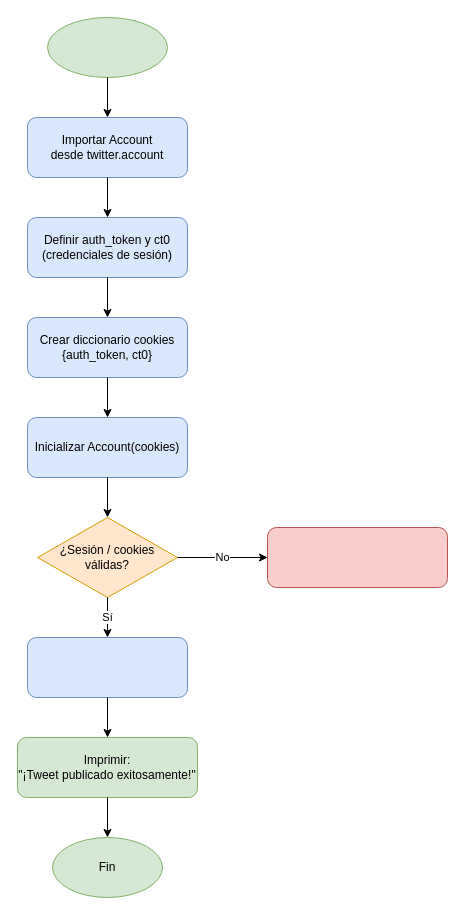
Some shapes in this 465 by 915 pixel diagram are drawn without their labels. The centre of each missing label's shape, as x and y in pixels:
account.tweet( "Hola mundo..."): (x=107, y=667)
Excepción / Error (sesión inválida o expirada): (x=357, y=557)
Inicio: (x=107, y=47)
